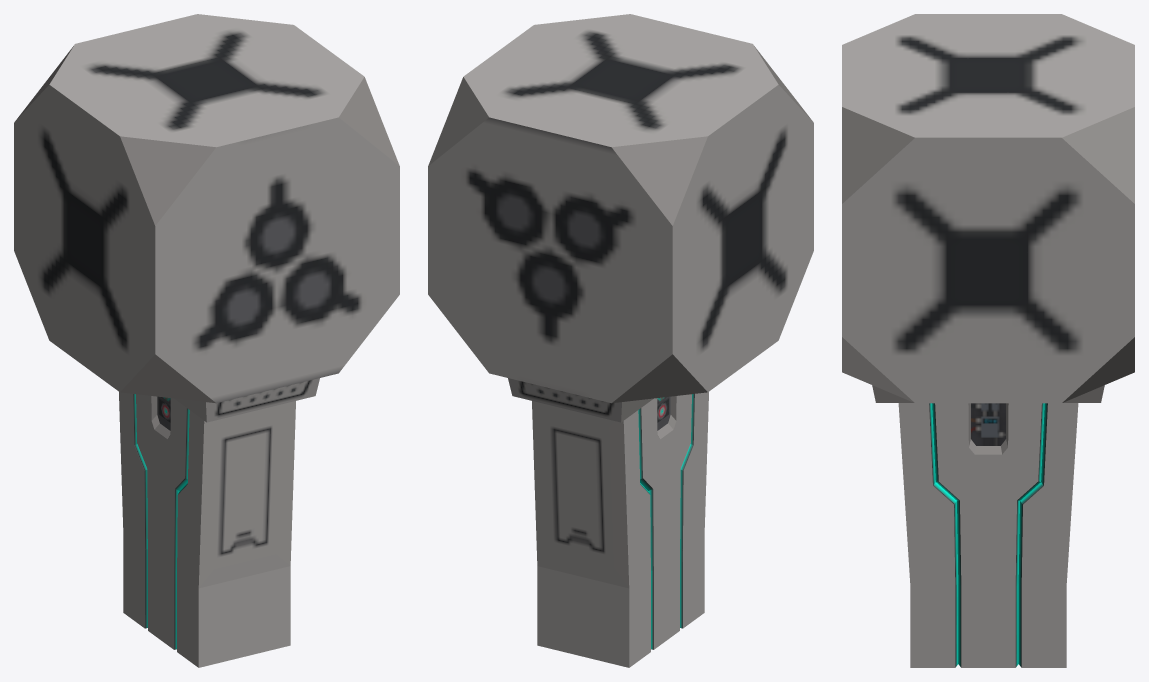
Rendered from SM_Bld_Pipe_Connector_01.fbx.
3 renders of one model, left to right at view 1: azimuth 30°, elevation 25°; view 2: azimuth 150°, elevation 25°; view 3: azimuth 270°, elevation 25°, orthographic. The views are drawn at different scales.
Visible parts, largest first — view 1: SM_Bld_Pipe_Connector_01; view 2: SM_Bld_Pipe_Connector_01; view 3: SM_Bld_Pipe_Connector_01.
Boxes of the visible parts, left/top/right/bottom form: SM_Bld_Pipe_Connector_01: left=14, top=14, right=399, bottom=667; SM_Bld_Pipe_Connector_01: left=428, top=14, right=813, bottom=667; SM_Bld_Pipe_Connector_01: left=842, top=14, right=1134, bottom=667.
Bounding box in the file's own units: 123 × 264 × 123.
